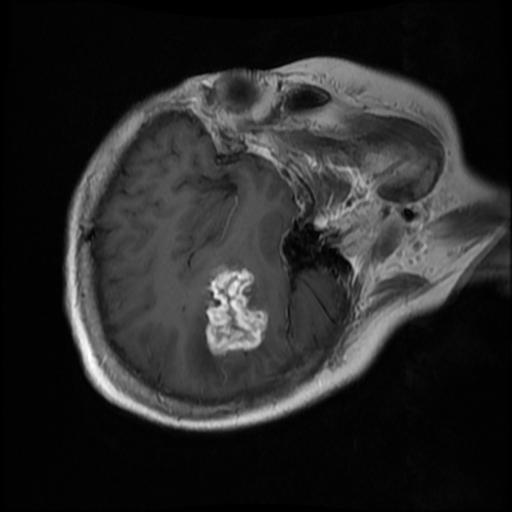glioma: (203, 263, 268, 357)
